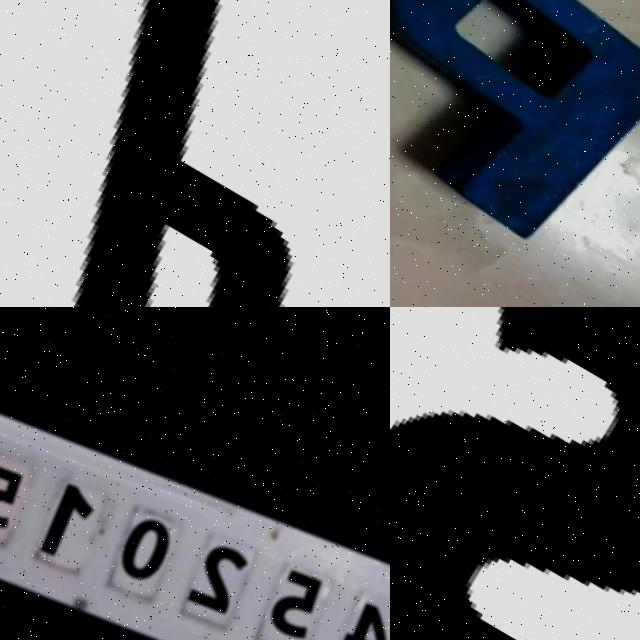0: (100, 491, 206, 603)
1: (27, 465, 129, 576)
2: (174, 520, 278, 629)
4: (324, 576, 390, 640)
5: (251, 544, 358, 640), (0, 444, 54, 547)
D: (0, 0, 390, 307)
P: (390, 0, 640, 263)
S: (390, 307, 640, 640)
